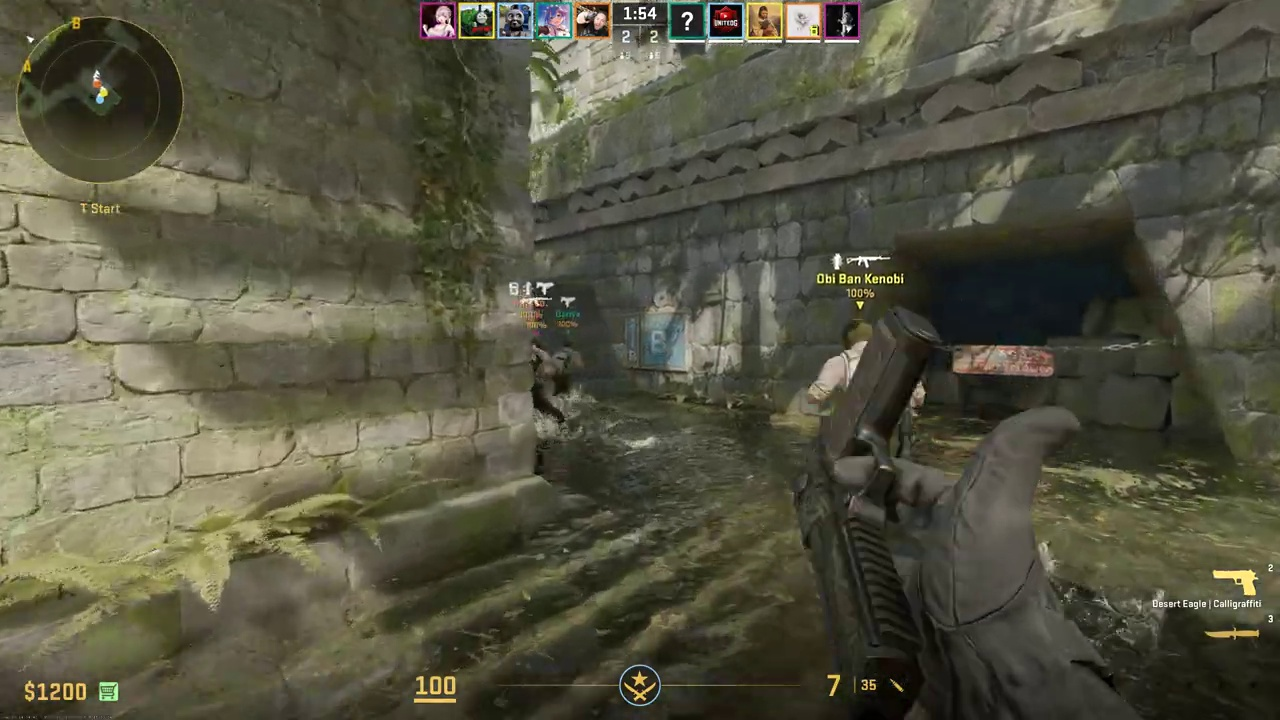Terrorist: (789, 319, 928, 715), (531, 339, 555, 418), (551, 341, 577, 397)
